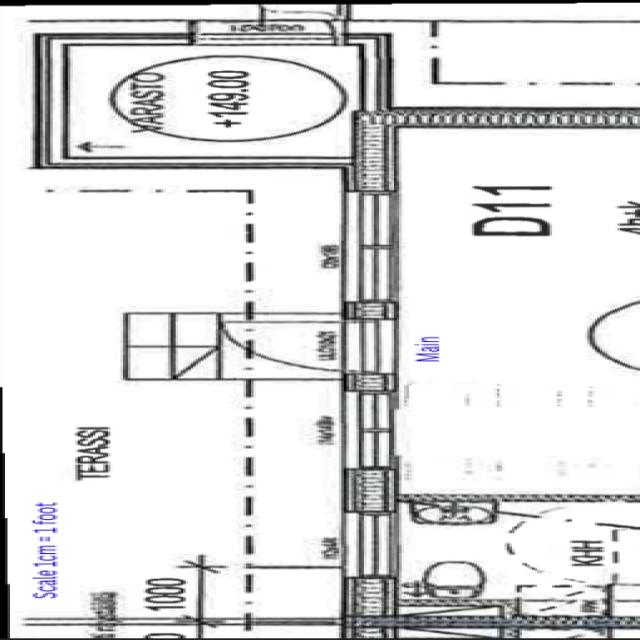main: (215, 311, 421, 379)
wall: (334, 100, 640, 132), (332, 102, 408, 198), (328, 464, 406, 516), (329, 573, 404, 623)
